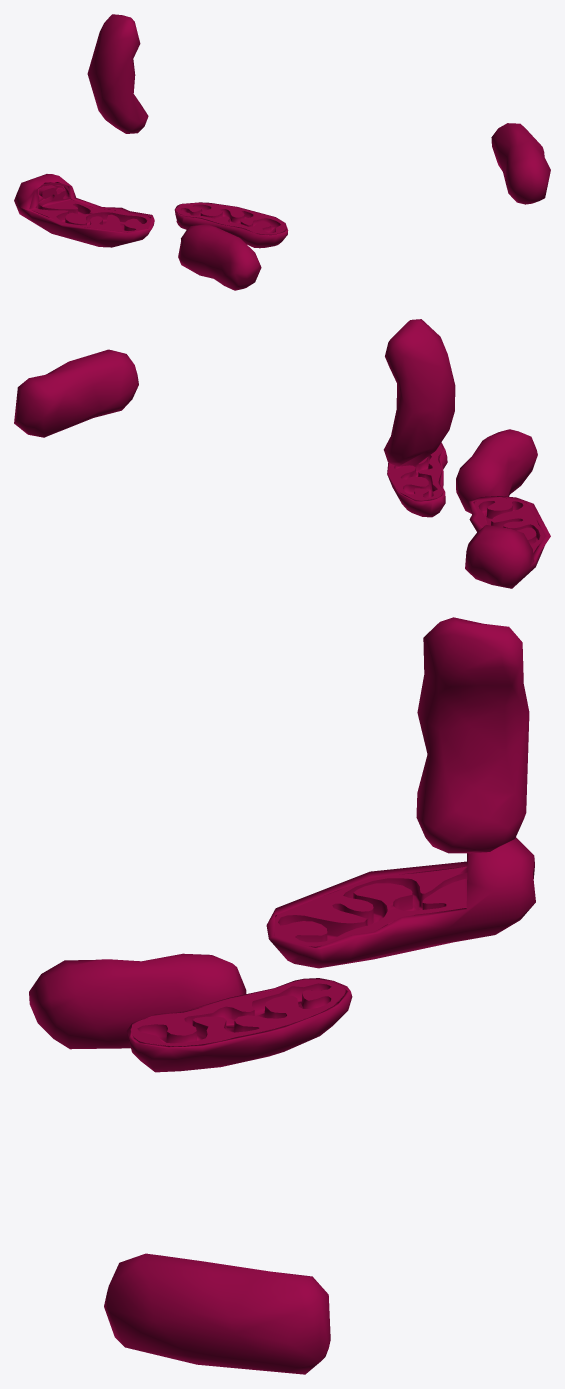
The model's file is mitochondria.glb.
3 renders of one model, top to bottom at view 1: azimuth 30°, elevation 25°; view 2: azimuth 150°, elevation 25°; view 3: azimuth 270°, elevation 25°, orthographic. The views are drawn at different scales.
Parts seen in each view (by area): view 1: Mitochondria.002; view 2: Mitochondria.002; view 3: Mitochondria.002.
Boxes of the visible parts, box(x1,y1,x2,y2) form: Mitochondria.002: box(14, 14, 550, 290); Mitochondria.002: box(14, 319, 550, 588); Mitochondria.002: box(29, 617, 535, 1374).
Size of the model in its own units: 15.74 by 6.66 by 7.4.
